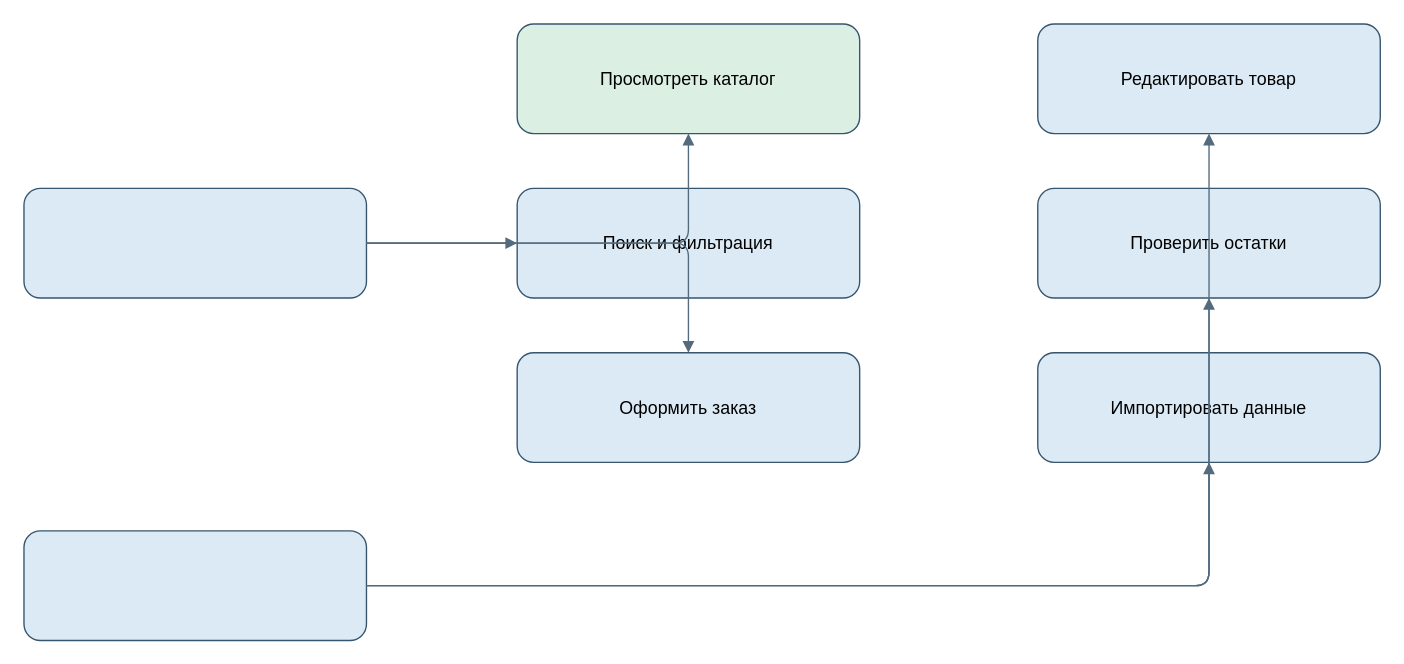
This 1404x664 diagram has some shape labels left out. The centre of each missing label's shape, as x and y in pixels:
"Гость / покупатель" goes at pixel 194 242.
"Сотрудник магазина" goes at pixel 194 585.
